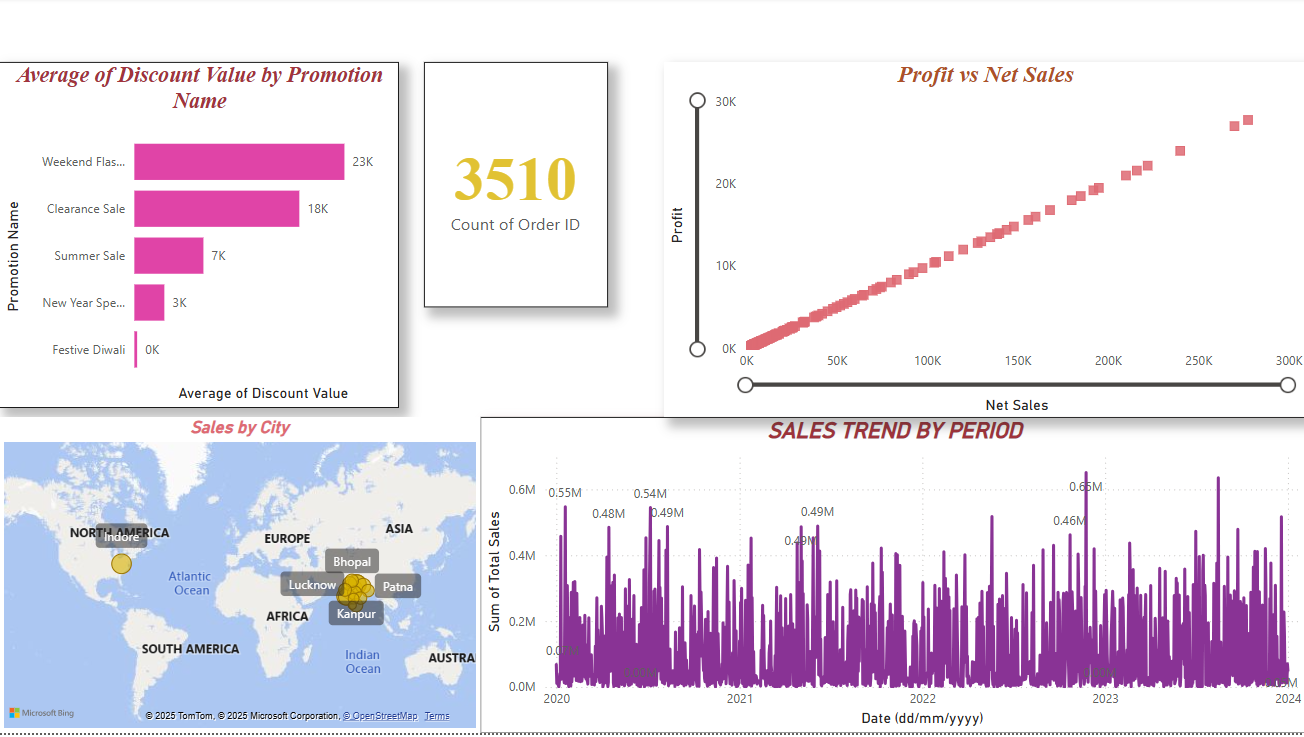

The page's visual inventory and layout, read from the dashboard file:
{"tool":"powerbi","page":{"name":"Requirments","canvas":[1280,720],"ordinal":1},"visuals":[{"type":"lineChart","title":"SALES TREND BY PERIOD","fields":{"Y":["Sum(Fact Table.Total Sales)"],"Category":["Fact Table.Date (dd/mm/yyyy).Variation.Date Hierarchy.Year"]},"box":[470.8,410.9,809.5,309.4],"z":0},{"type":"scatterChart","title":"Profit vs Net Sales","fields":{"Y":["Fact Table.Profit"],"X":["Fact Table.Net Sales"]},"box":[650.5,63.6,629.8,347.3],"z":1000},{"type":"barChart","fields":{"Y":["Avg(Fact Table.Discount Value)"],"Category":["Dim Promotion.Promotion Name"]},"box":[0,63.6,391.3,338.7],"z":2000},{"type":"map","title":"Sales by City","fields":{"Size":["Sum(Fact Table.Net Sales)"],"Category":["Dim Customers.City"]},"box":[0,411,471,309],"z":3000},{"type":"card","fields":{"Values":["Count(Fact Table.Order ID)"]},"box":[415.8,63.6,179.8,239.7],"z":4000}]}

Visuals, with their boxes in screenshot pixels (x1, y1, x2, y2), scaled from the page's 1280x720 canvas onto the 1304x737 screenshot:
"SALES TREND BY PERIOD" lineChart: 480,421,1303,736
"Profit vs Net Sales" scatterChart: 663,65,1303,421
barChart - Avg(Fact Table.Discount Value) x Dim Promotion.Promotion Name: 0,65,399,412
"Sales by City" map: 0,421,480,736
card - Count(Fact Table.Order ID): 424,65,607,310
